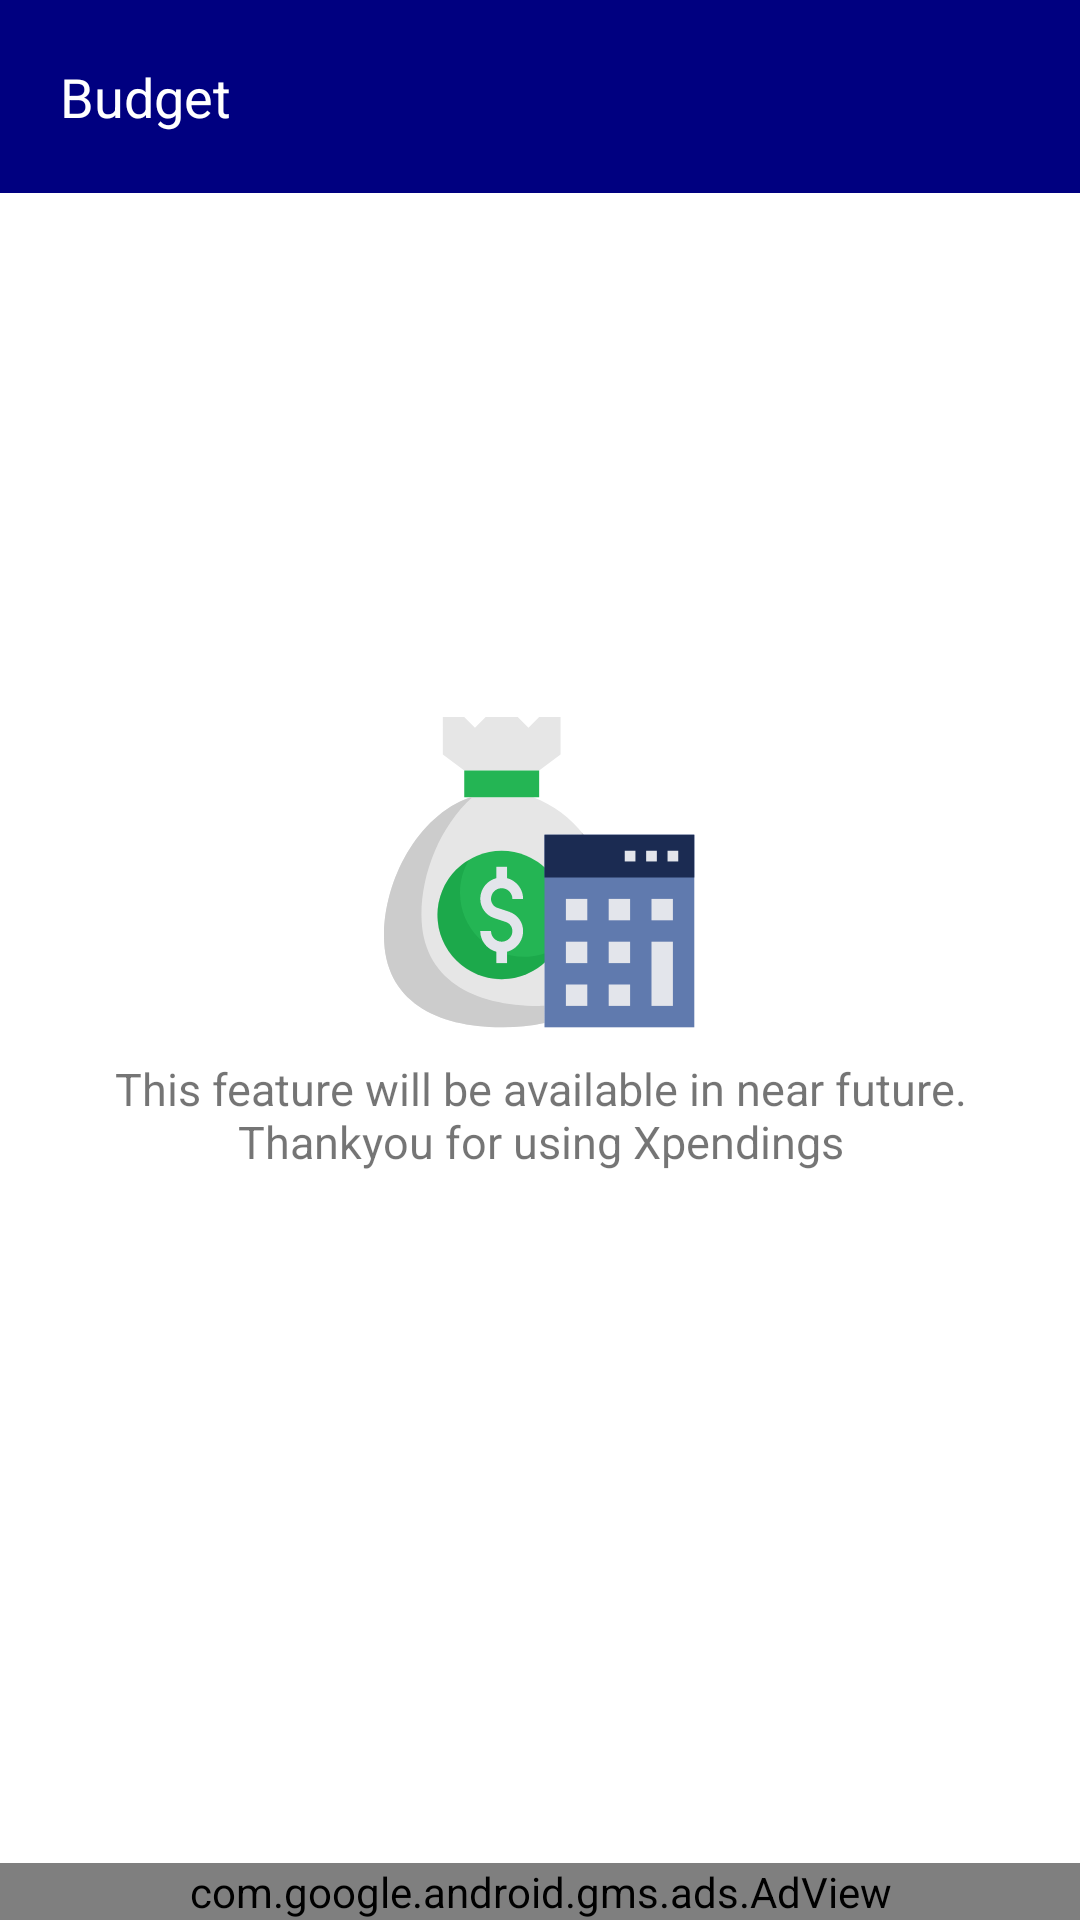

Named icons in this screenshot (1080px x 1920px) and their bounding boxes, (x1,y1,x2,y2):
budget: (384,717,695,1028)
